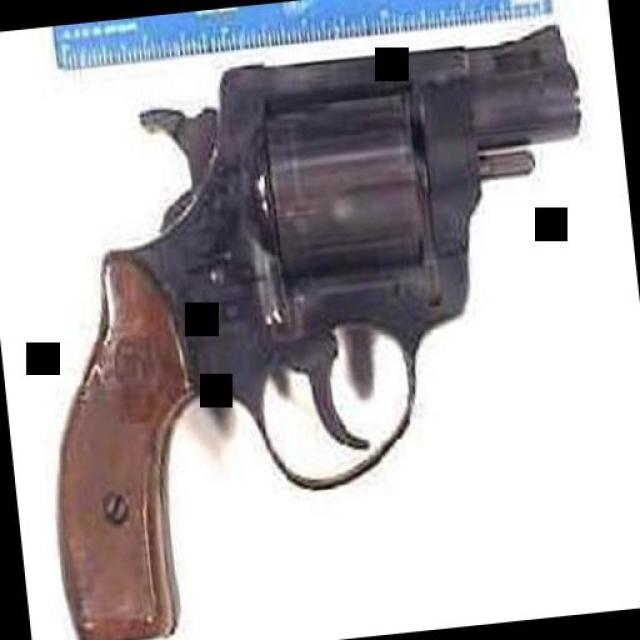gun: (0, 16, 628, 640)
